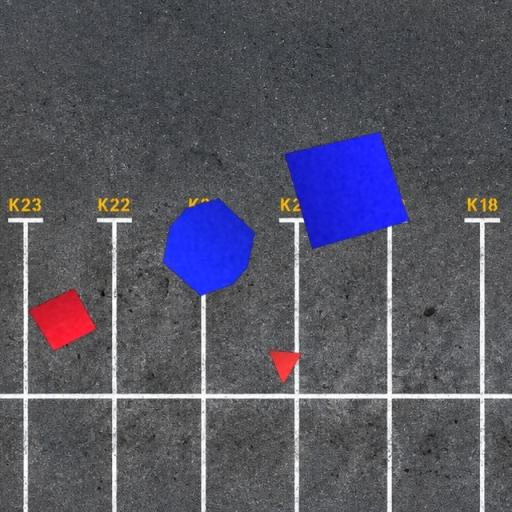BLUE_SQUARE: (284, 131, 410, 250)
RED_SQUARE: (27, 287, 97, 352)
